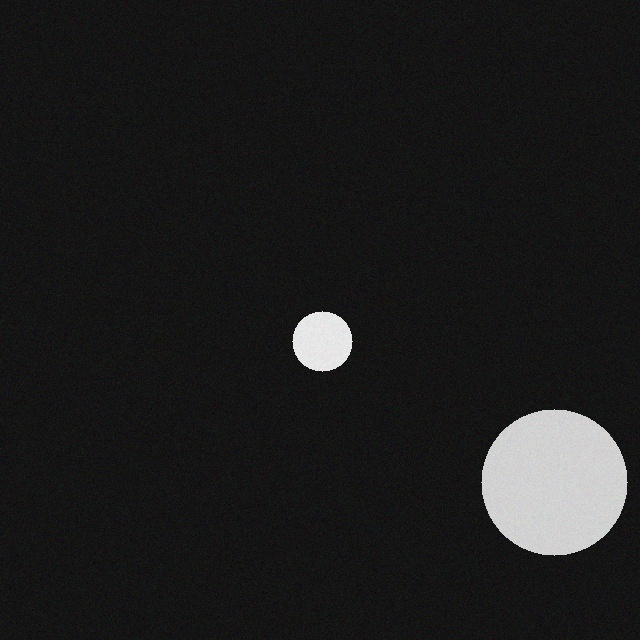circle: (478, 403, 624, 549), (289, 305, 349, 365)
